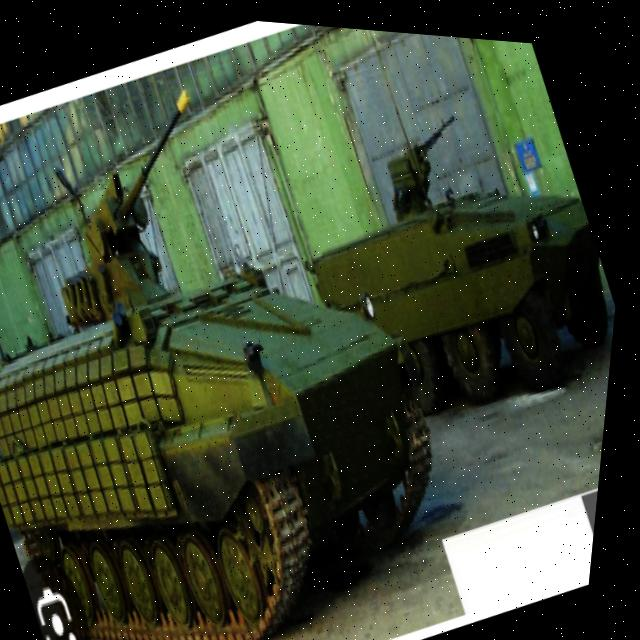MIL_APC: (0, 102, 518, 640), (253, 58, 637, 464)
